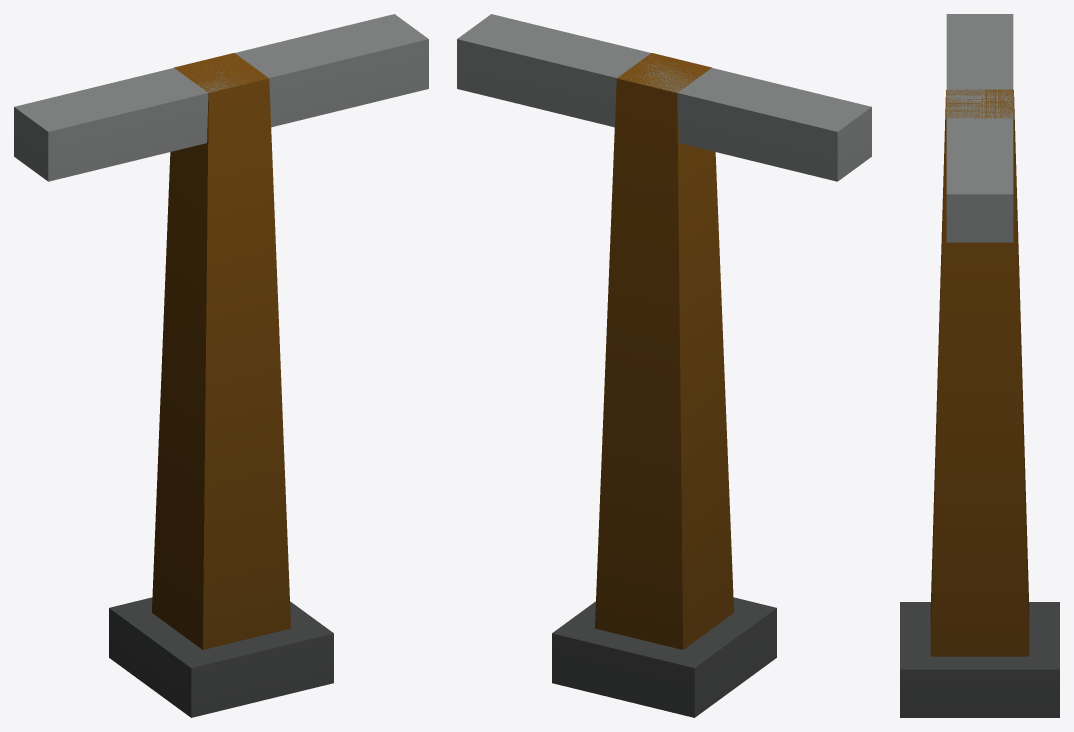
Rendered from small-electric-pole.glb.
3 views of the same model, side by side, from view 1: azimuth 30°, elevation 25°; view 2: azimuth 150°, elevation 25°; view 3: azimuth 270°, elevation 25° (orthographic). The views are drawn at different scales.
Parts seen in each view (by area): view 1: small-electric-pole; view 2: small-electric-pole; view 3: small-electric-pole.
Boxes of the visible parts, x1,y1,x2,y2 form: small-electric-pole: (14,14,428,717); small-electric-pole: (457,14,871,717); small-electric-pole: (900,14,1059,717).
Bounding box in the file's own units: 0.16 × 0.24 × 0.06.
